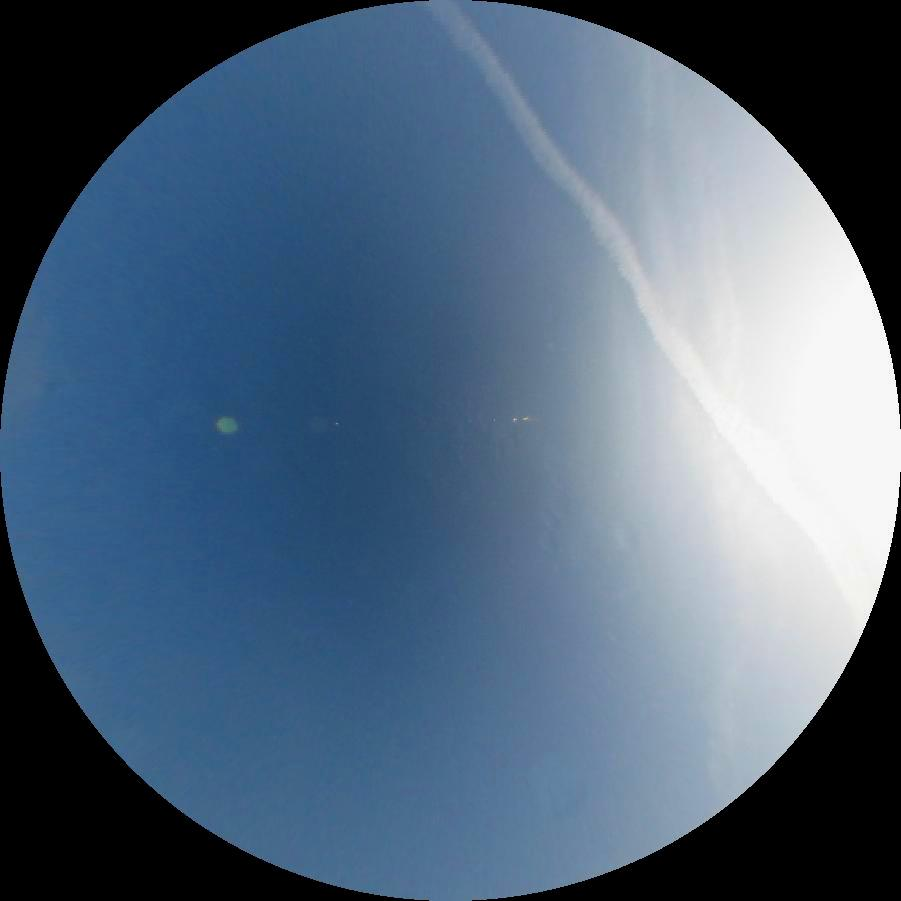contrail veryold: (424, 0, 885, 630)
